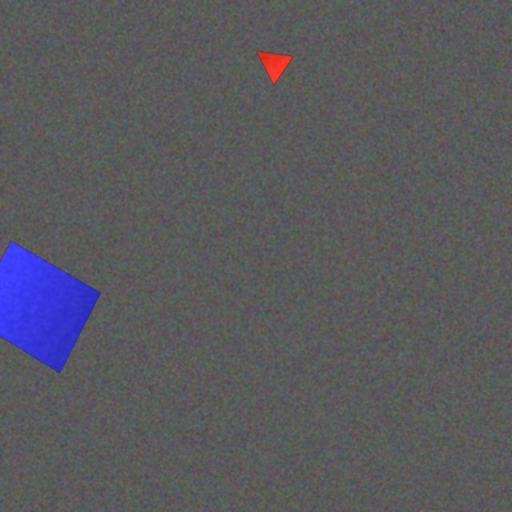BLUE_SQUARE: (0, 240, 102, 374)
